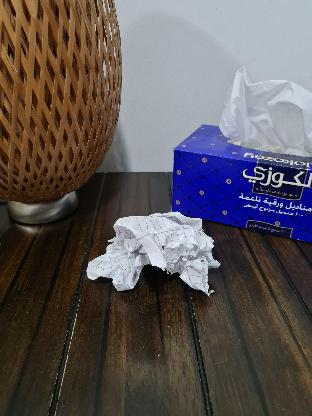Paper: (87, 208, 217, 292)
